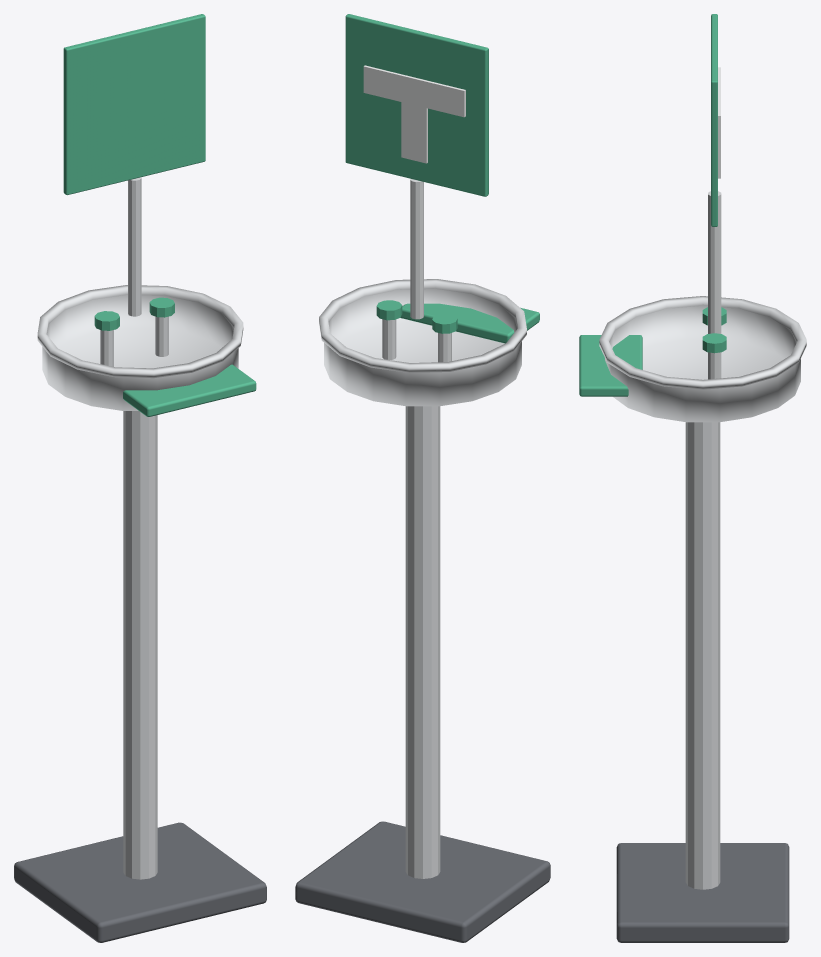
The model's file is eyewash-station.glb.
The picture shows the model from 3 angles, left to right: view 1: azimuth 30°, elevation 25°; view 2: azimuth 150°, elevation 25°; view 3: azimuth 270°, elevation 25°; orthographic projection.
Visible parts, largest first — view 1: eyewash-station; view 2: eyewash-station; view 3: eyewash-station.
Boxes of the visible parts, x1,y1,x2,y2 form: eyewash-station: (14, 14, 266, 942); eyewash-station: (295, 14, 550, 942); eyewash-station: (579, 14, 806, 942).
Bounding box in the file's own units: 0.36 × 1.64 × 0.395.
